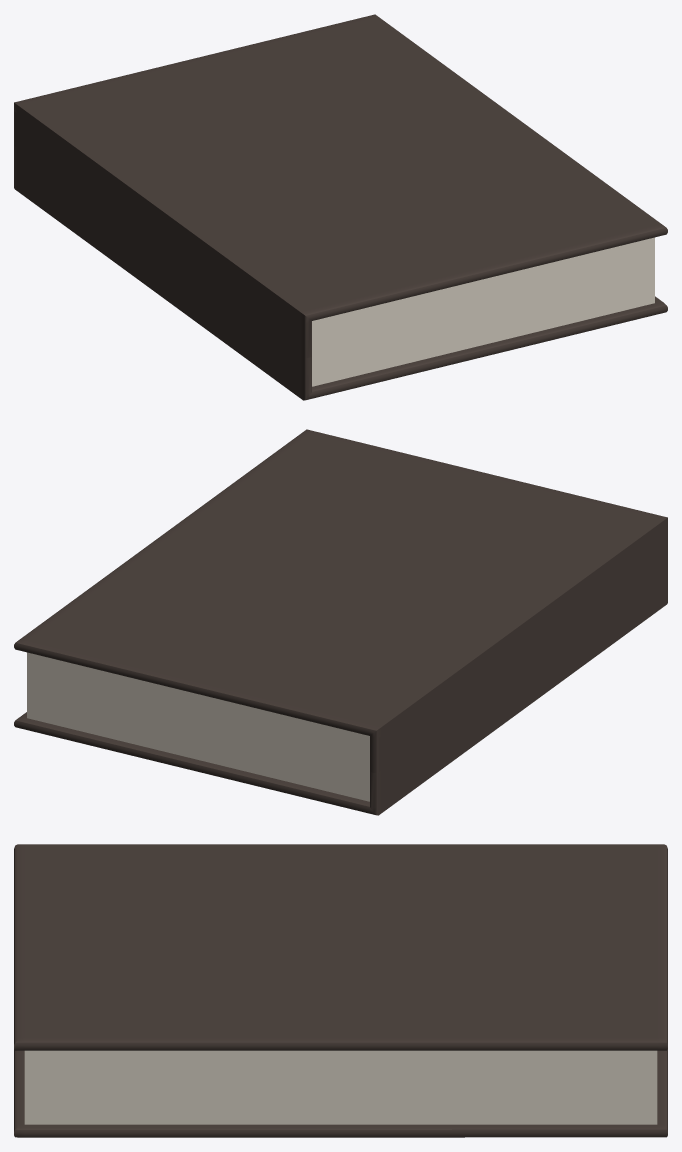
File: book_.fbx
The picture shows the model from 3 angles, top to bottom: view 1: azimuth 30°, elevation 25°; view 2: azimuth 150°, elevation 25°; view 3: azimuth 270°, elevation 25°; orthographic projection. The views are drawn at different scales.
Parts seen in each view (by area): view 1: pCube3, pPlane1; view 2: pCube3, pPlane1; view 3: pCube3, pPlane1.
Boxes of the visible parts, x1,y1,x2,y2 form: pCube3: [14, 14, 667, 400]; pPlane1: [312, 237, 654, 386]; pCube3: [14, 429, 667, 815]; pPlane1: [27, 652, 369, 801]; pCube3: [14, 844, 667, 1137]; pPlane1: [24, 1050, 657, 1124].
Bounding box in the file's own units: 2.2 × 0.5 × 3.07.
